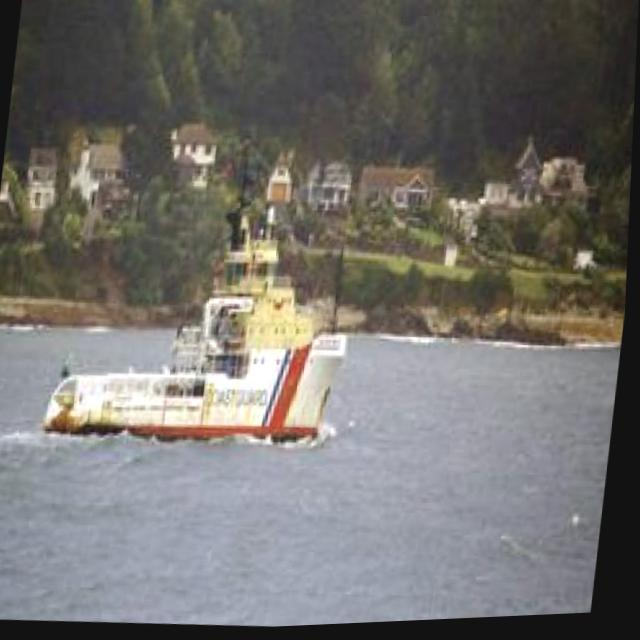ship2: (45, 201, 353, 444)
